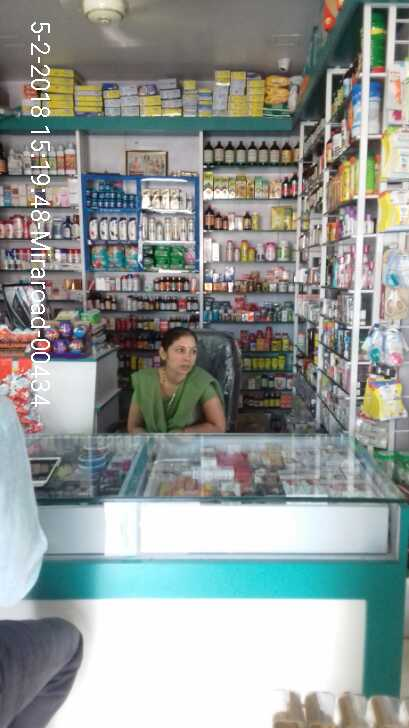beauty: (138, 212, 197, 243), (142, 188, 190, 209), (114, 211, 128, 240), (126, 217, 137, 244), (87, 211, 98, 237), (96, 218, 109, 236), (109, 212, 116, 239)
pharmacy: (82, 179, 137, 209), (82, 244, 109, 272), (105, 240, 123, 273), (123, 241, 138, 273), (145, 238, 168, 257), (167, 256, 189, 271), (168, 247, 186, 257), (149, 255, 164, 265)
